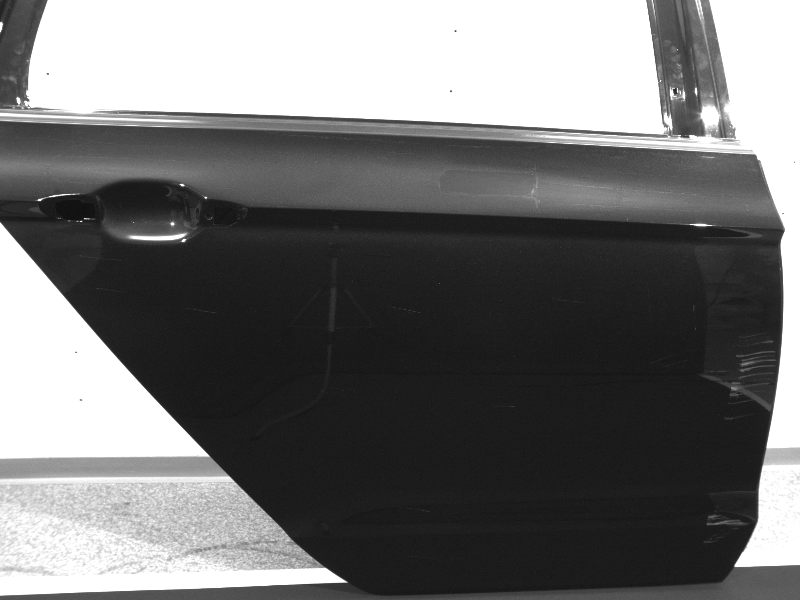scratch: (723, 331, 779, 421), (703, 511, 750, 544), (651, 347, 709, 364), (77, 253, 121, 262), (389, 304, 421, 315), (554, 296, 587, 306), (184, 305, 217, 314), (398, 505, 432, 513), (691, 305, 698, 332), (96, 287, 123, 293), (492, 405, 516, 408)
